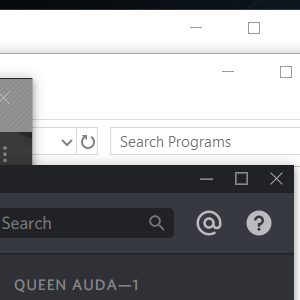close: (266, 169, 288, 188), (1, 89, 14, 107)
